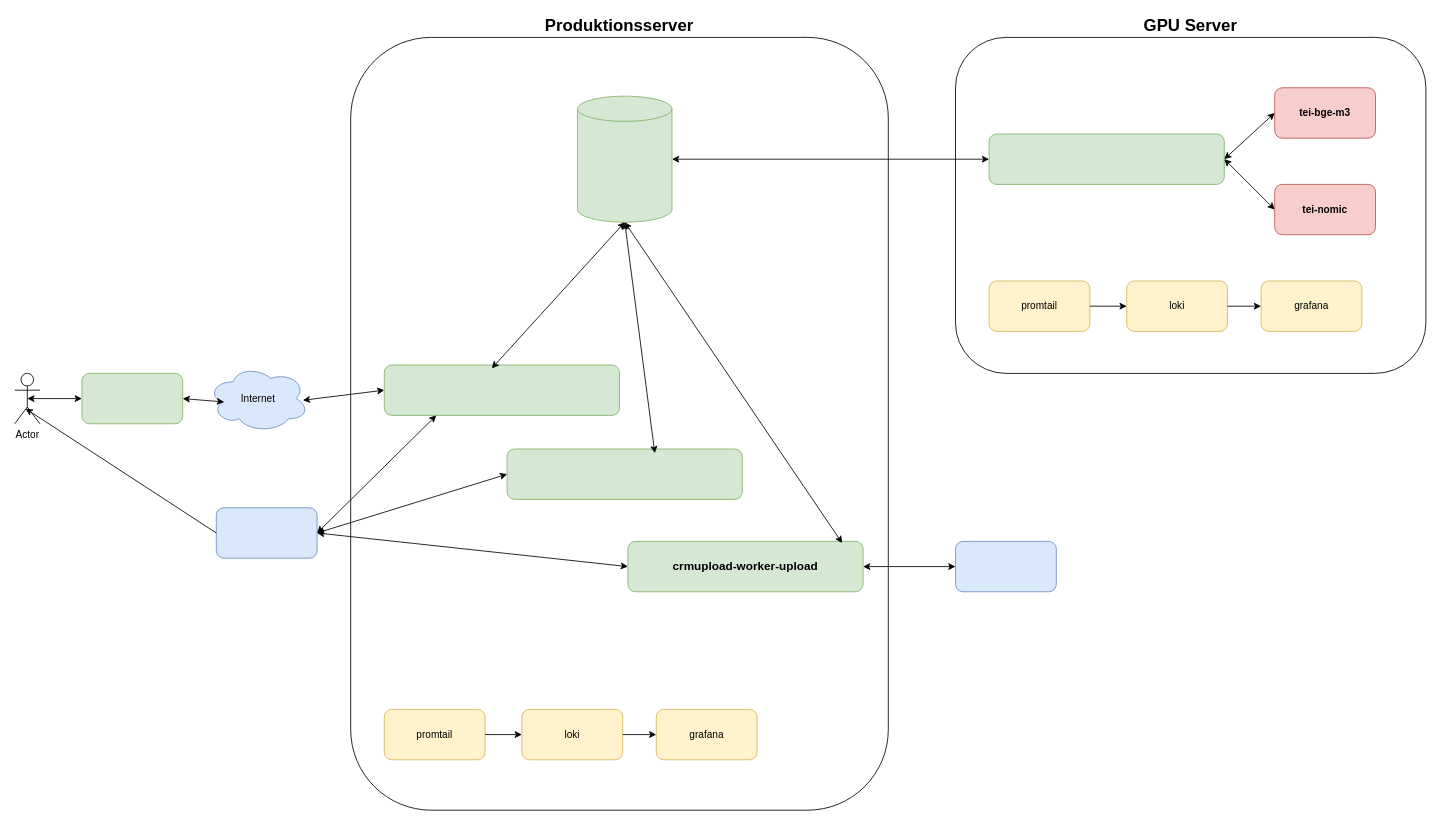
Image size: 1441x825. Some labels were removed from this diagram. Each missing label, with the centre of its shape:
"CRM (EspoCRM, Odoo, ...)" belongs at [1005,566].
"crmupload-db (PostgreSQL)" belongs at [624,158].
"crmupload-web" belongs at [501,389].
"crmupload-worker-duplicate-check" belongs at [624,473].
"crmupload-worker-duplicate-check-gpu" belongs at [1106,158].
"frontend" belongs at [132,398].
"Scaleway" belongs at [266,532].
